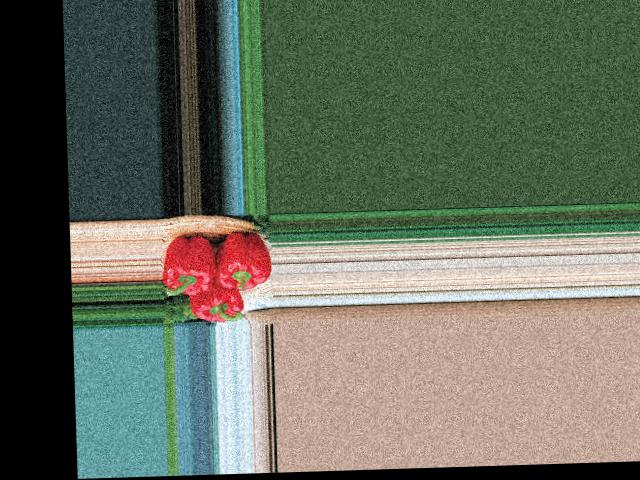bell_pepper: (162, 227, 223, 296)
